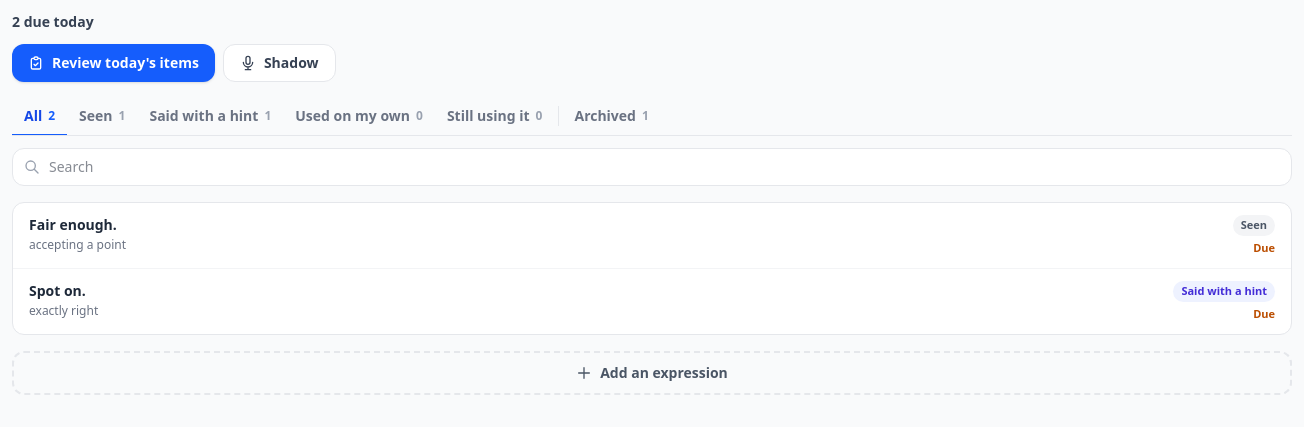
Test case: ExpressionList › renders rows and filters by progress, with archived items behind their own tab
Check: the 2nd text "Said with a hint" is shown, box [1173, 281, 1275, 302]
Check: the text "2" is shown, box [48, 108, 55, 124]
Step 1. Click the tab with test id "state-tab-recalled" → (210, 117), box [137, 98, 283, 136]
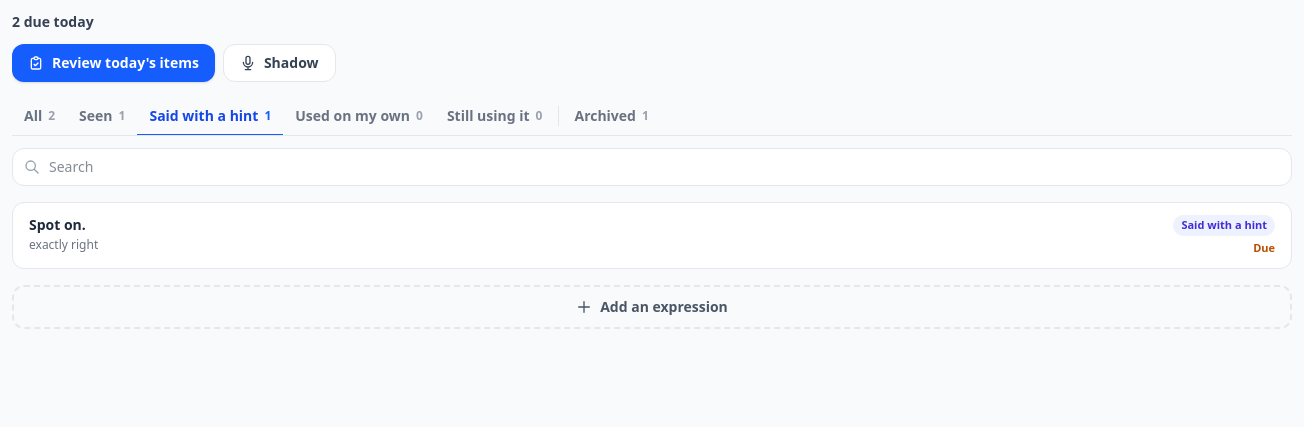
Check: the tab with test id "state-tab-recalled" is selected, box [137, 98, 283, 136]
Step 2. Click the tab with test id "state-tab-archived" → (610, 117), box [558, 98, 661, 136]
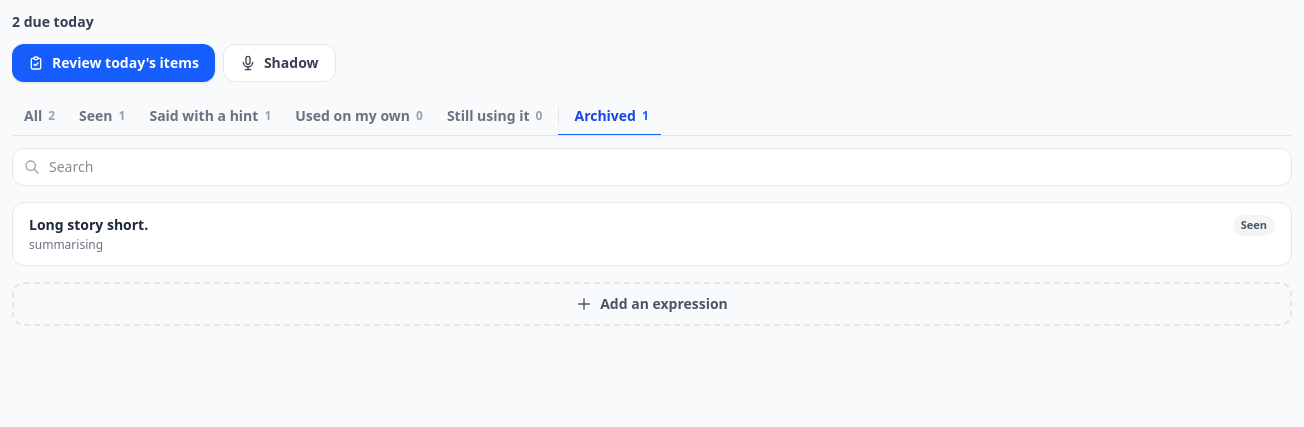
Step 3. Click the tab with test id "state-tab-retained" → (495, 117), box [435, 98, 554, 136]
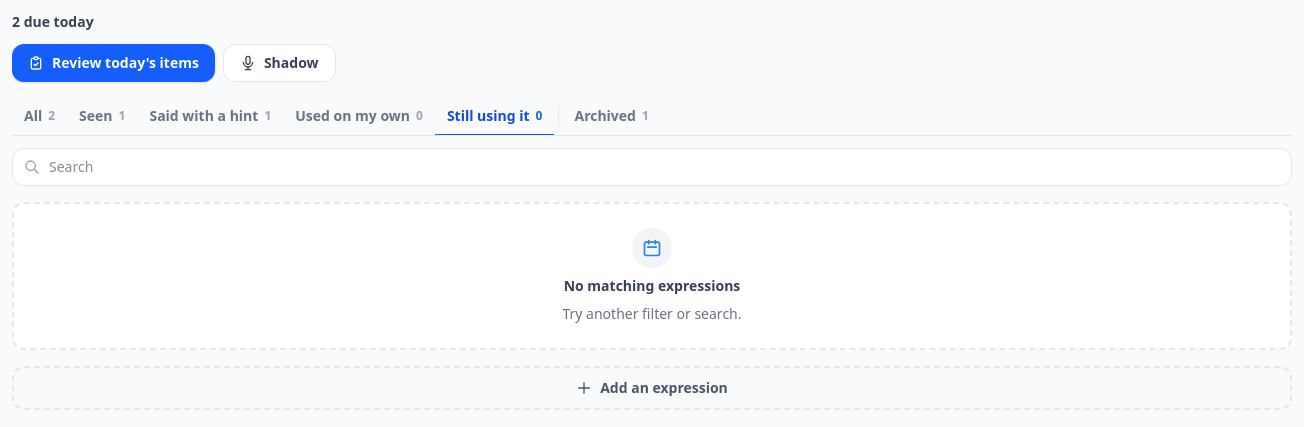
Check: the heading "No matching expressions" is shown, box [564, 276, 740, 296]
